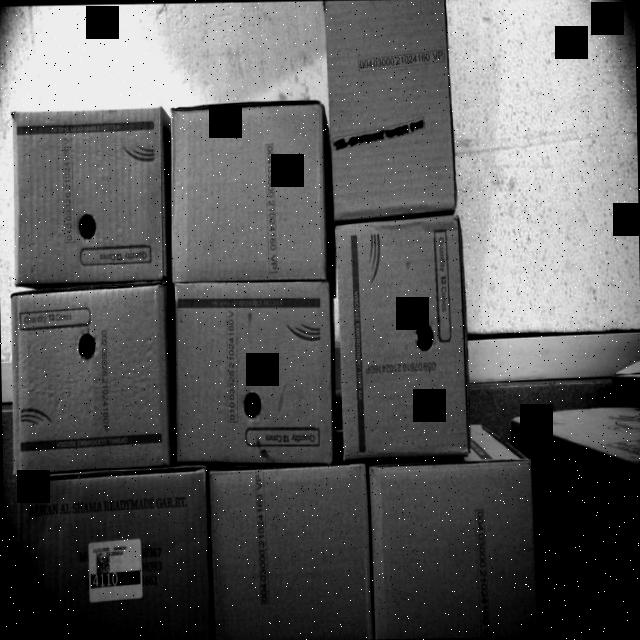box: (3, 467, 215, 640), (4, 287, 174, 475), (366, 459, 538, 638), (168, 102, 328, 290), (338, 227, 465, 455), (176, 284, 332, 469), (323, 0, 452, 221), (214, 471, 371, 640), (18, 106, 166, 276)
